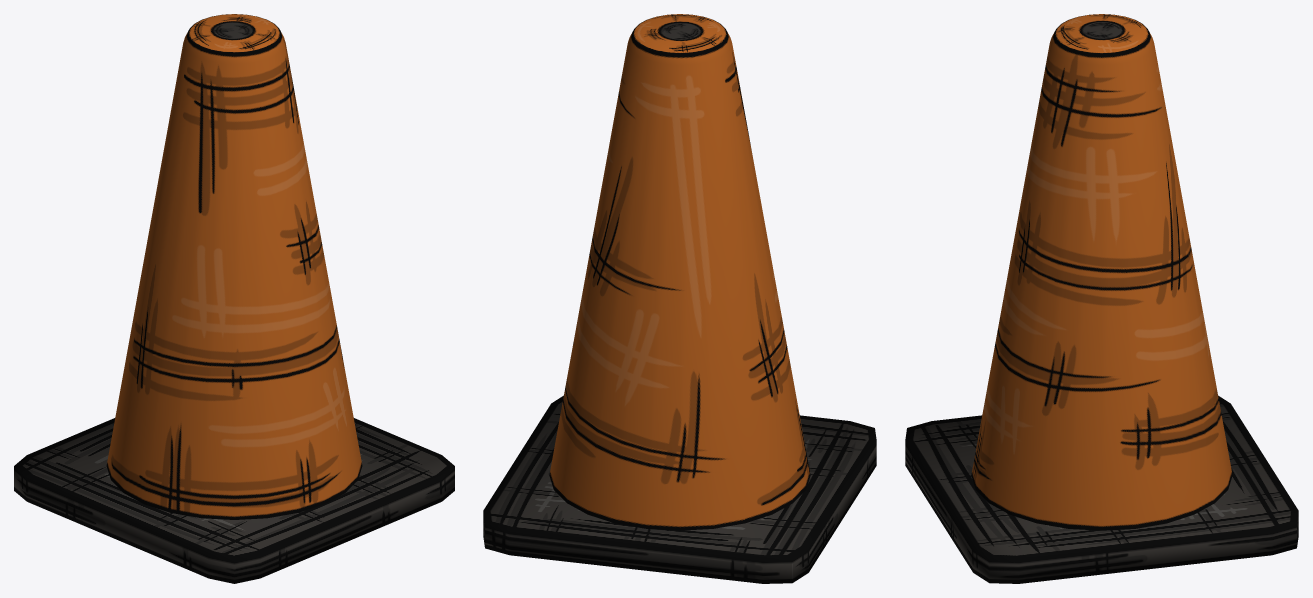
The model's file is TrafficCone2.FBX.
3 views of the same model, side by side, from view 1: azimuth 30°, elevation 25°; view 2: azimuth 150°, elevation 25°; view 3: azimuth 270°, elevation 25° (orthographic). The views are drawn at different scales.
Parts seen in each view (by area): view 1: Cone001; view 2: Cone001; view 3: Cone001.
Boxes of the visible parts, <box> form: Cone001: <box>14,14,454,583</box>; Cone001: <box>483,14,876,583</box>; Cone001: <box>905,14,1298,583</box>.
Size of the model in its own units: 52.02 by 68.56 by 52.02.
